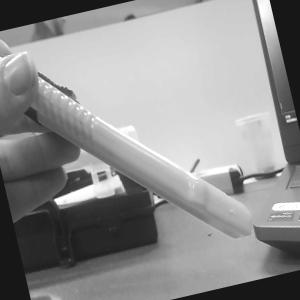estilete: (15, 30, 256, 280)
